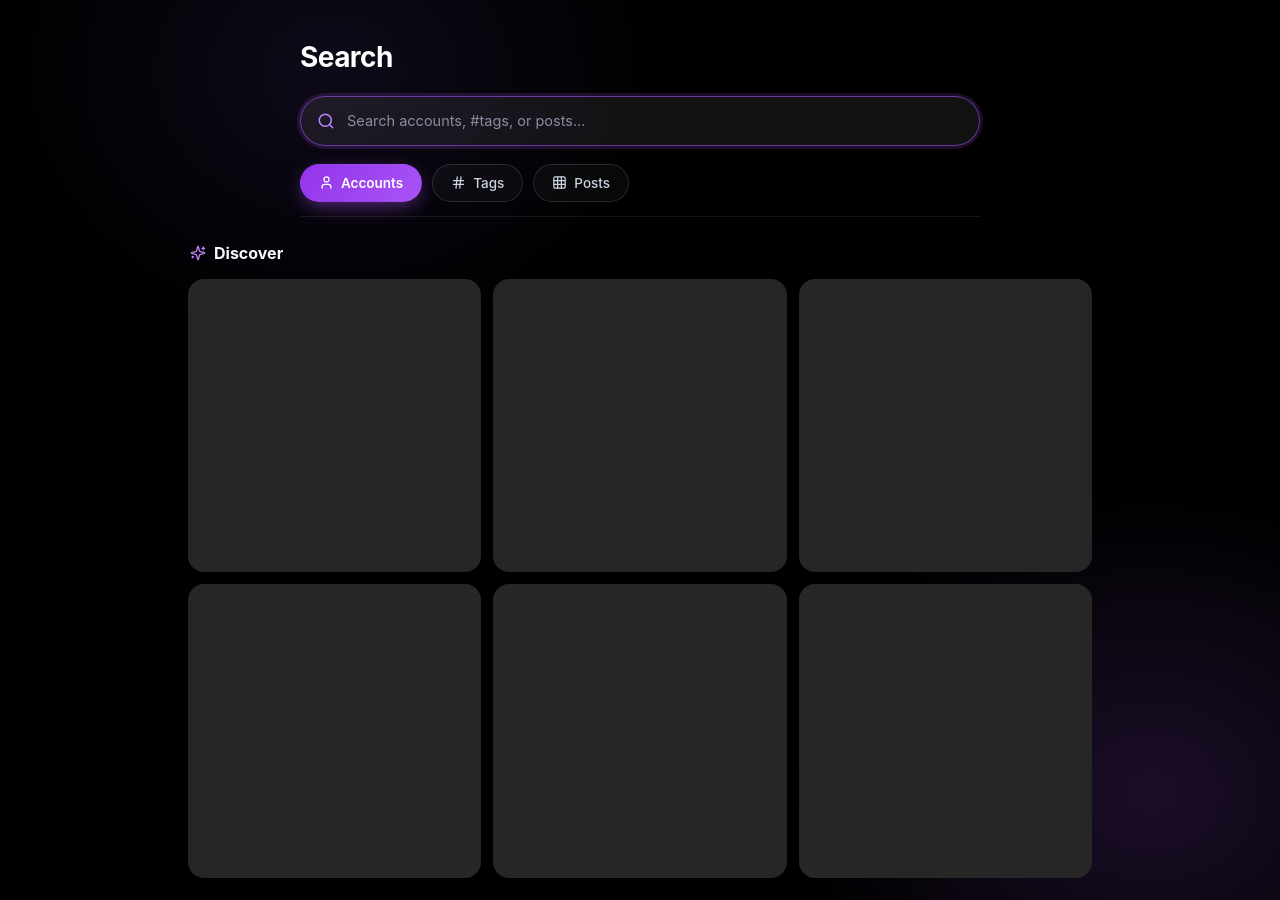
Test: SearchPage Redesign Suite › renders tab-matched skeletons when searching in Posts or Tags tab
Type "sunset" into the field with placeholder "Search accounts, #tags, or posts...". click: x=640, y=121
box: [300, 96, 980, 146]
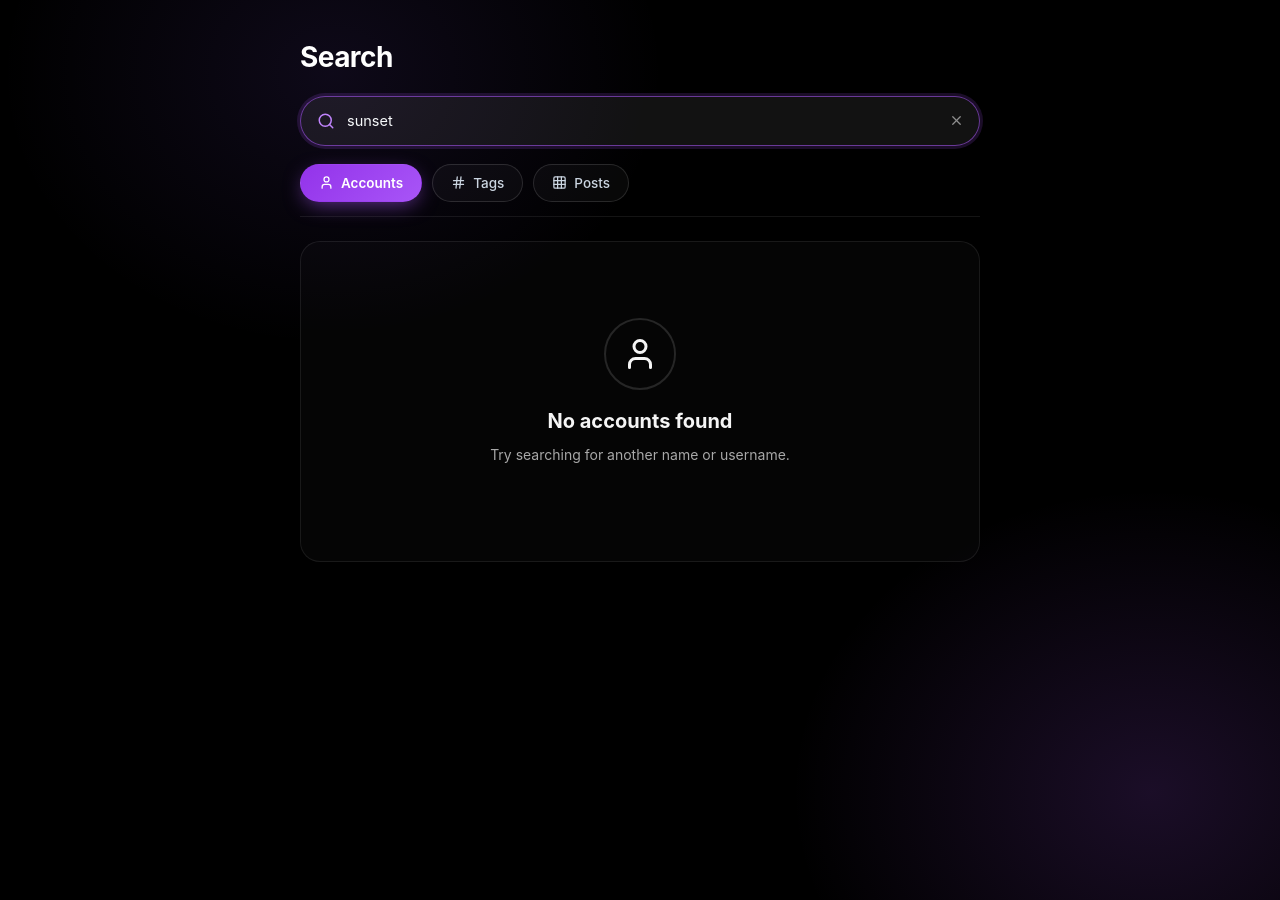
Click the tab "Posts". click: x=581, y=183
box: [533, 164, 629, 202]
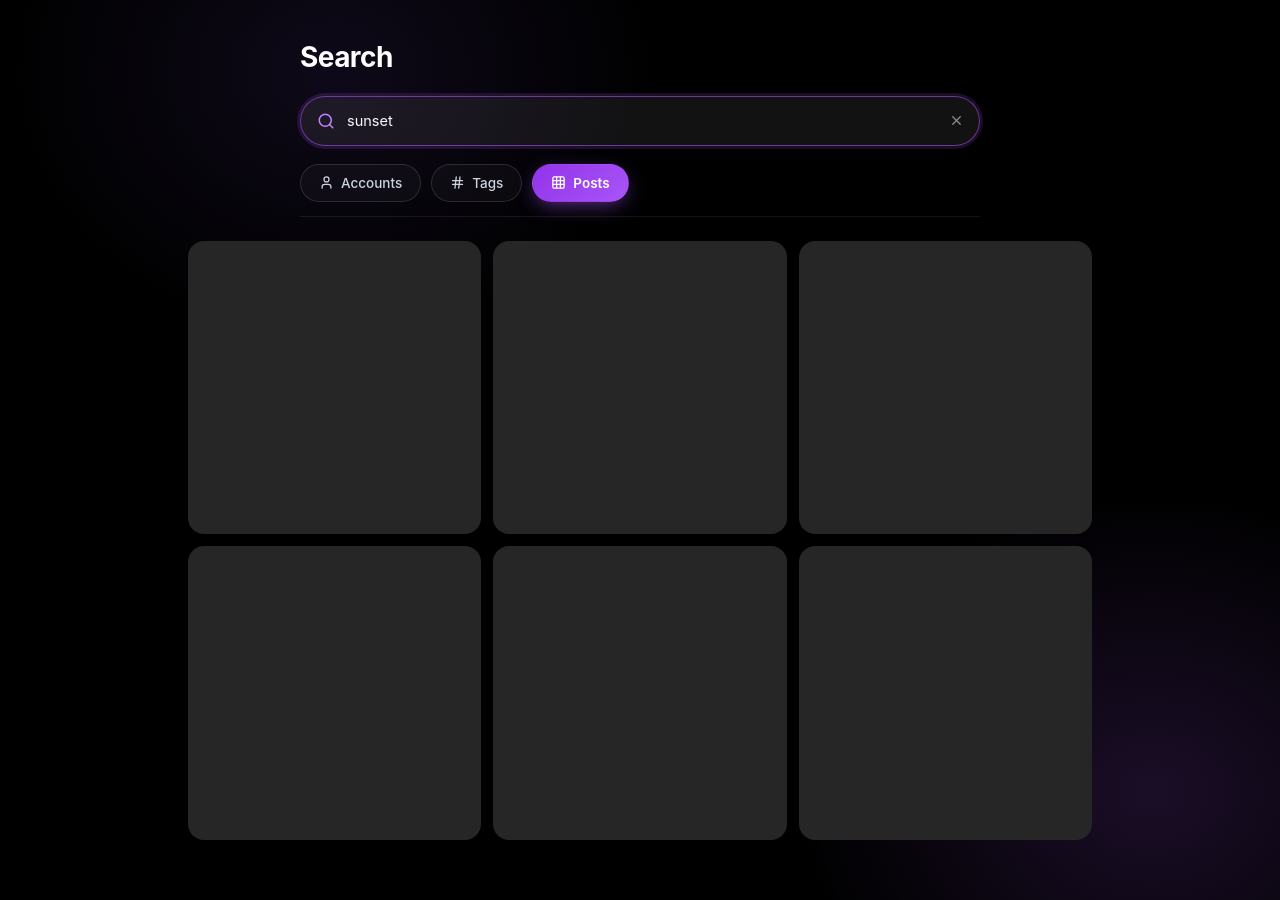
expect the element with class "grid-cols-3" is shown: met, box [188, 241, 1092, 840]
Click the tab "Tags". click: x=477, y=183
box: [431, 164, 522, 202]
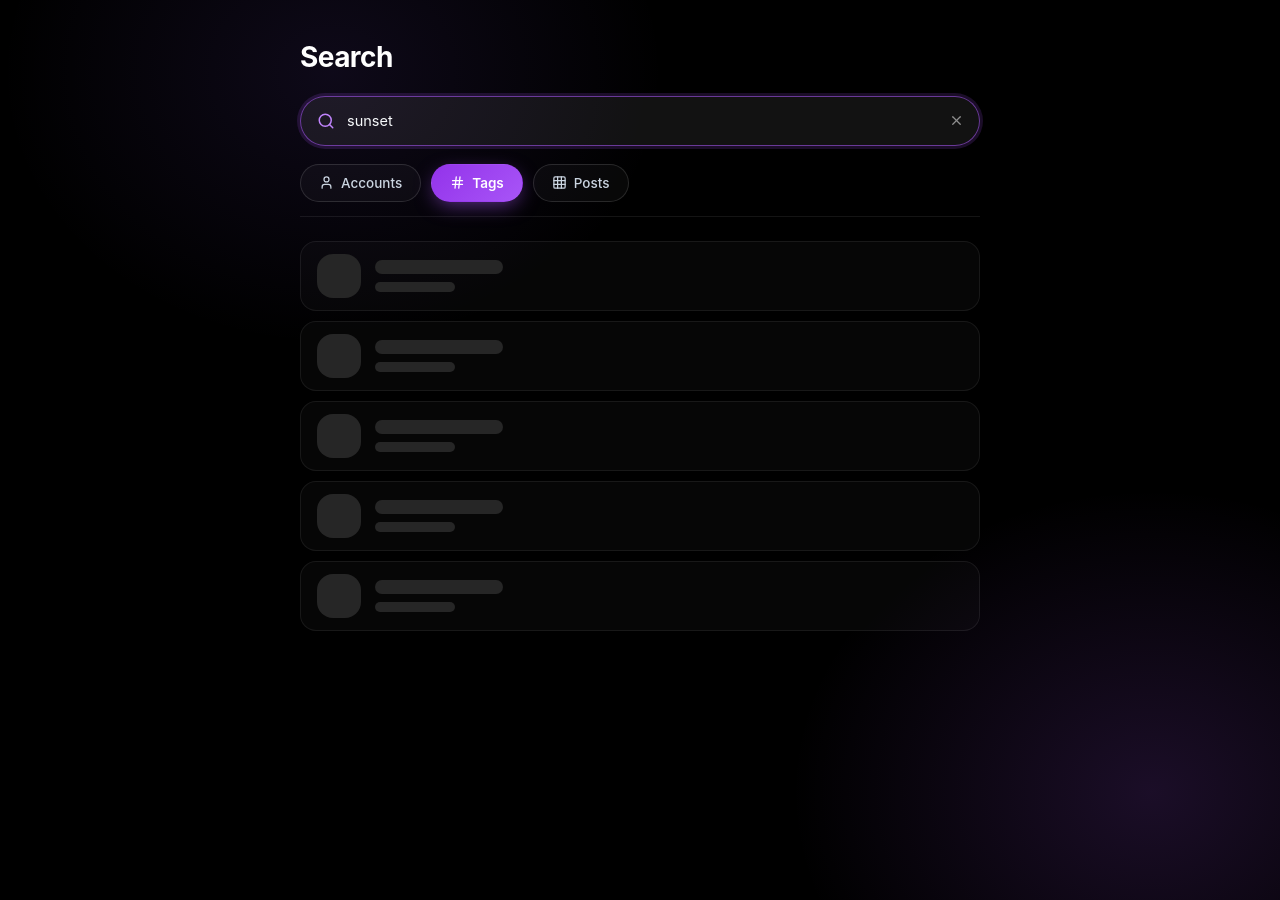
expect the 1st element with class "search-skeleton-row" is shown: met, box [300, 241, 980, 311]
